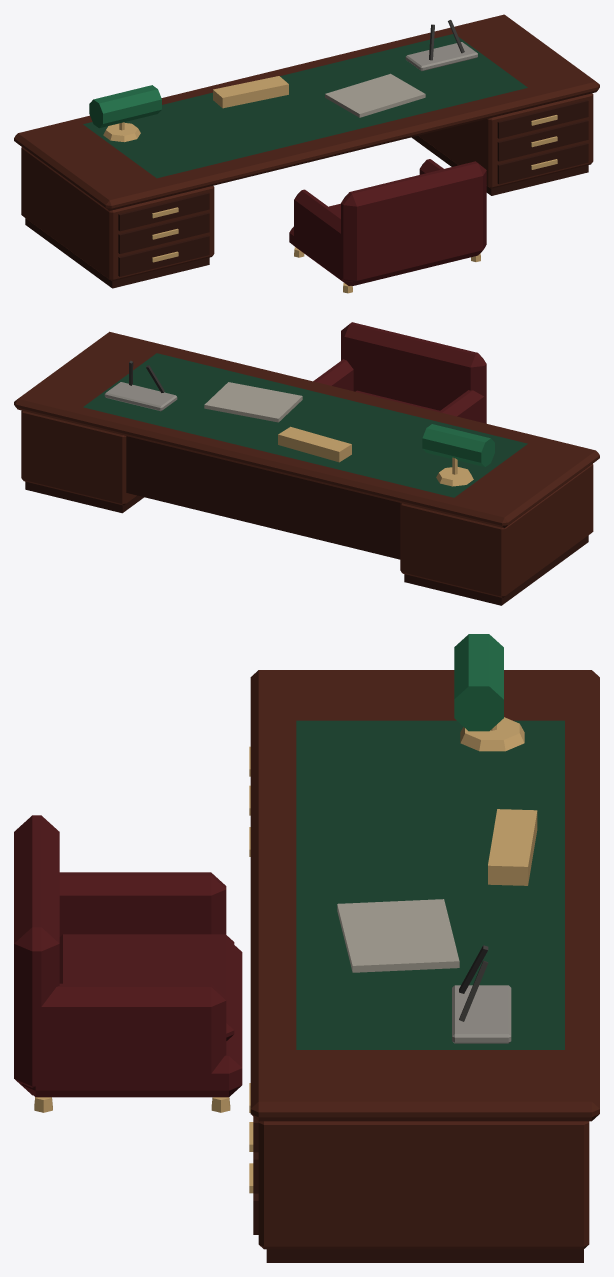
3 views of the same model, one above another, from view 1: azimuth 30°, elevation 25°; view 2: azimuth 150°, elevation 25°; view 3: azimuth 270°, elevation 25° (orthographic). The views are drawn at different scales.
Visible parts, largest first — view 1: furniture_13_desk_epic_executive; view 2: furniture_13_desk_epic_executive; view 3: furniture_13_desk_epic_executive.
Boxes of the visible parts, x1=… form: furniture_13_desk_epic_executive: x1=14, y1=14, x2=599, y2=293; furniture_13_desk_epic_executive: x1=14, y1=322, x2=599, y2=605; furniture_13_desk_epic_executive: x1=14, y1=634, x2=599, y2=1262.
Bounding box in the file's own units: 3.86 × 1 × 2.18.
